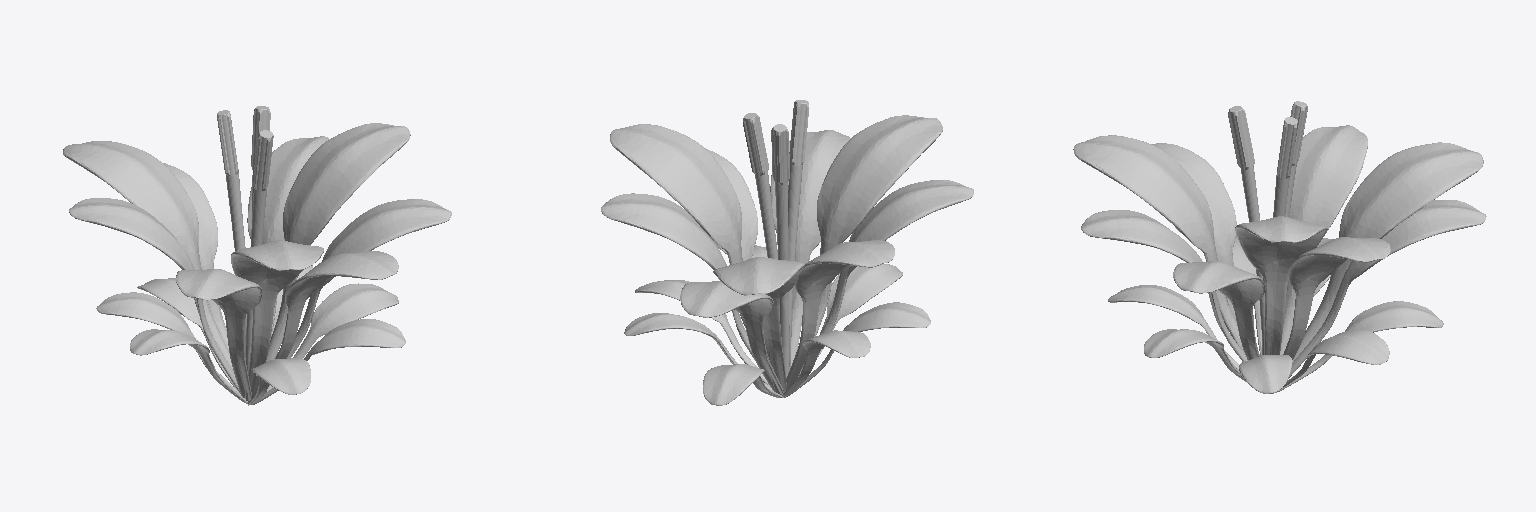
The model's file is Planta_2.obj.
3 views of the same model, side by side, from view 1: azimuth 30°, elevation 25°; view 2: azimuth 150°, elevation 25°; view 3: azimuth 270°, elevation 25° (orthographic).
Parts seen in each view (by area): view 1: Plane.037_Plane.025_Plane.037_Plane.026; view 2: Plane.037_Plane.025_Plane.037_Plane.026; view 3: Plane.037_Plane.025_Plane.037_Plane.026.
Boxes of the visible parts, <box> form: Plane.037_Plane.025_Plane.037_Plane.026: <box>63,106,451,405</box>; Plane.037_Plane.025_Plane.037_Plane.026: <box>601,100,973,405</box>; Plane.037_Plane.025_Plane.037_Plane.026: <box>1073,101,1486,393</box>.
Bounding box in the file's own units: 35.5 × 31.51 × 41.46.